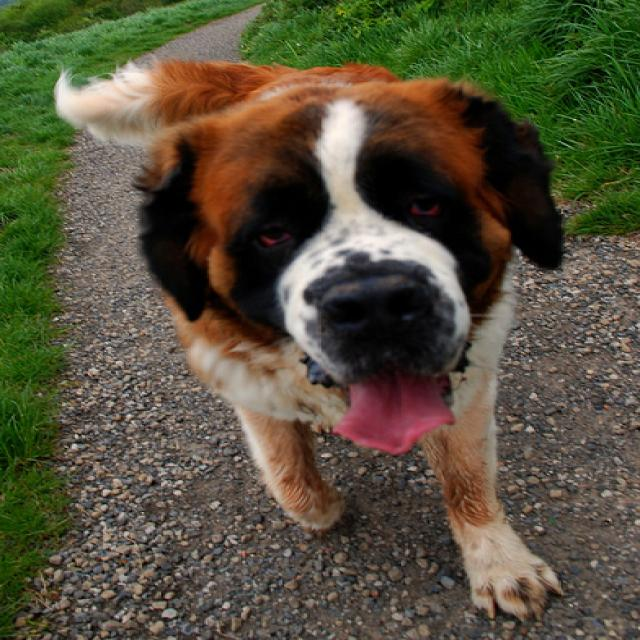dog-saint_bernard: (38, 51, 580, 634)
